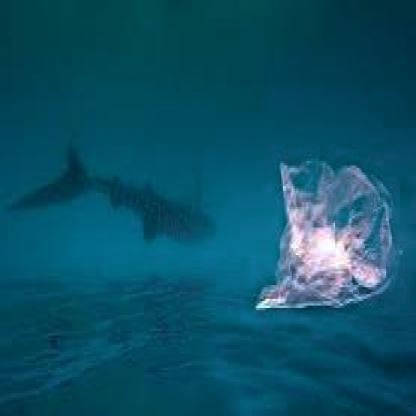pbag: (250, 156, 405, 315)
